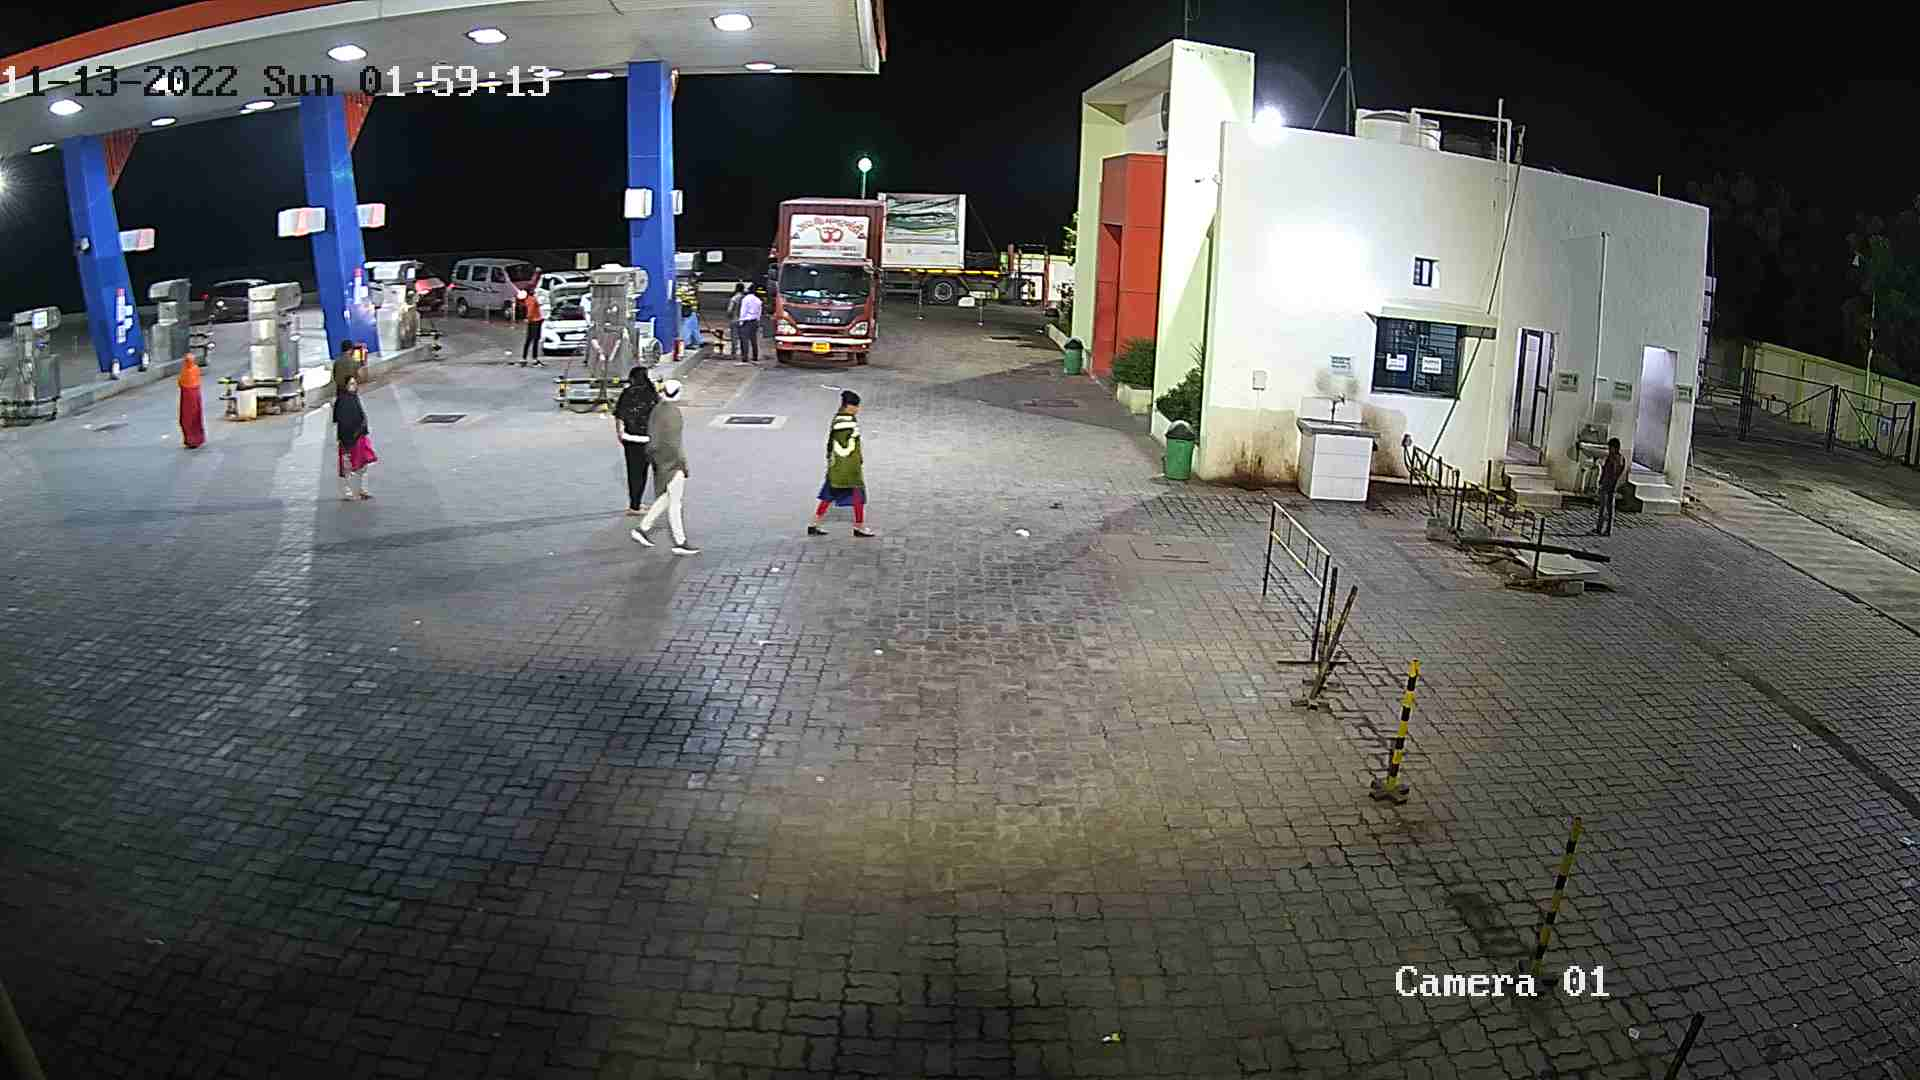Car: (522, 264, 605, 361), (440, 252, 543, 323), (196, 274, 280, 326), (398, 255, 450, 318)
HMV: (746, 187, 891, 373), (872, 185, 1050, 311)
